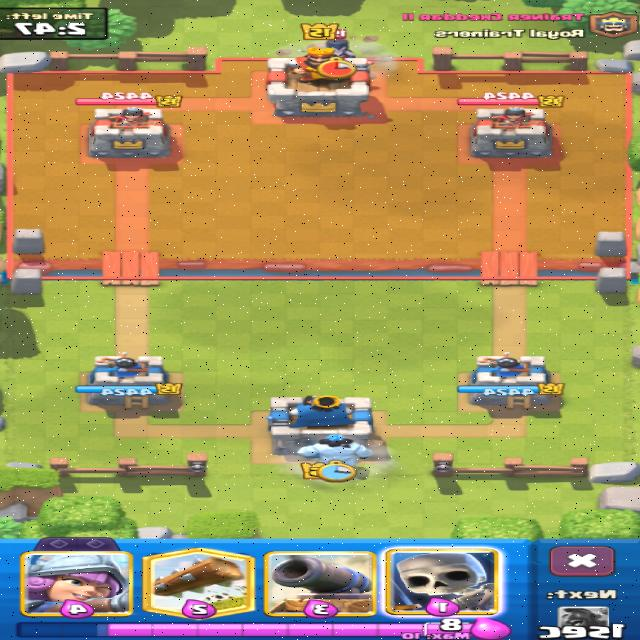Enemy-KingTower: (268, 47, 369, 116)
Enemy-NightWitch: (328, 39, 356, 59)
Enemy-PrincessTower: (89, 107, 170, 158), (471, 107, 552, 156)
Player-IceGolem: (298, 434, 372, 466)
Player-KingTower: (267, 394, 373, 453)
Player-PrincessTower: (458, 353, 564, 409), (76, 353, 181, 408)
